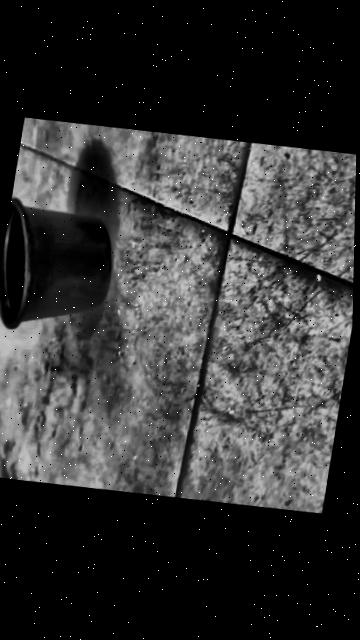pot: (0, 193, 120, 340)
